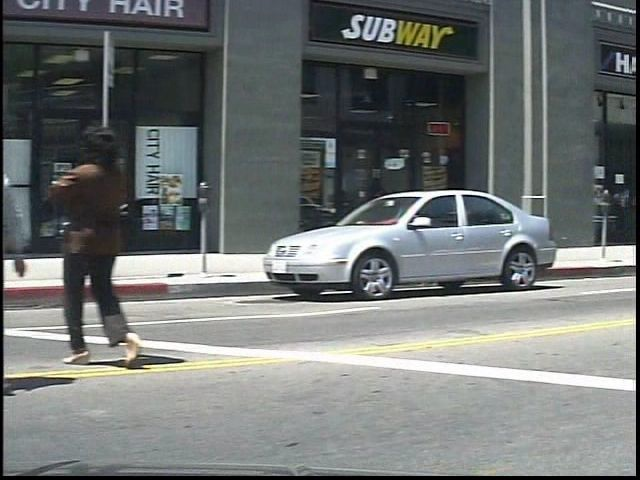person: (63, 120, 164, 370), (0, 115, 72, 389)
